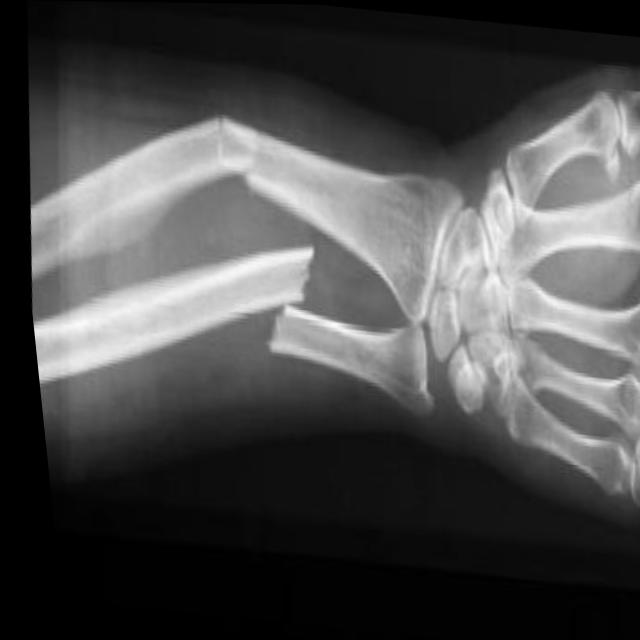fracture: (240, 238, 333, 365), (195, 83, 265, 201)
